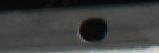holes: (77, 16, 109, 44)
